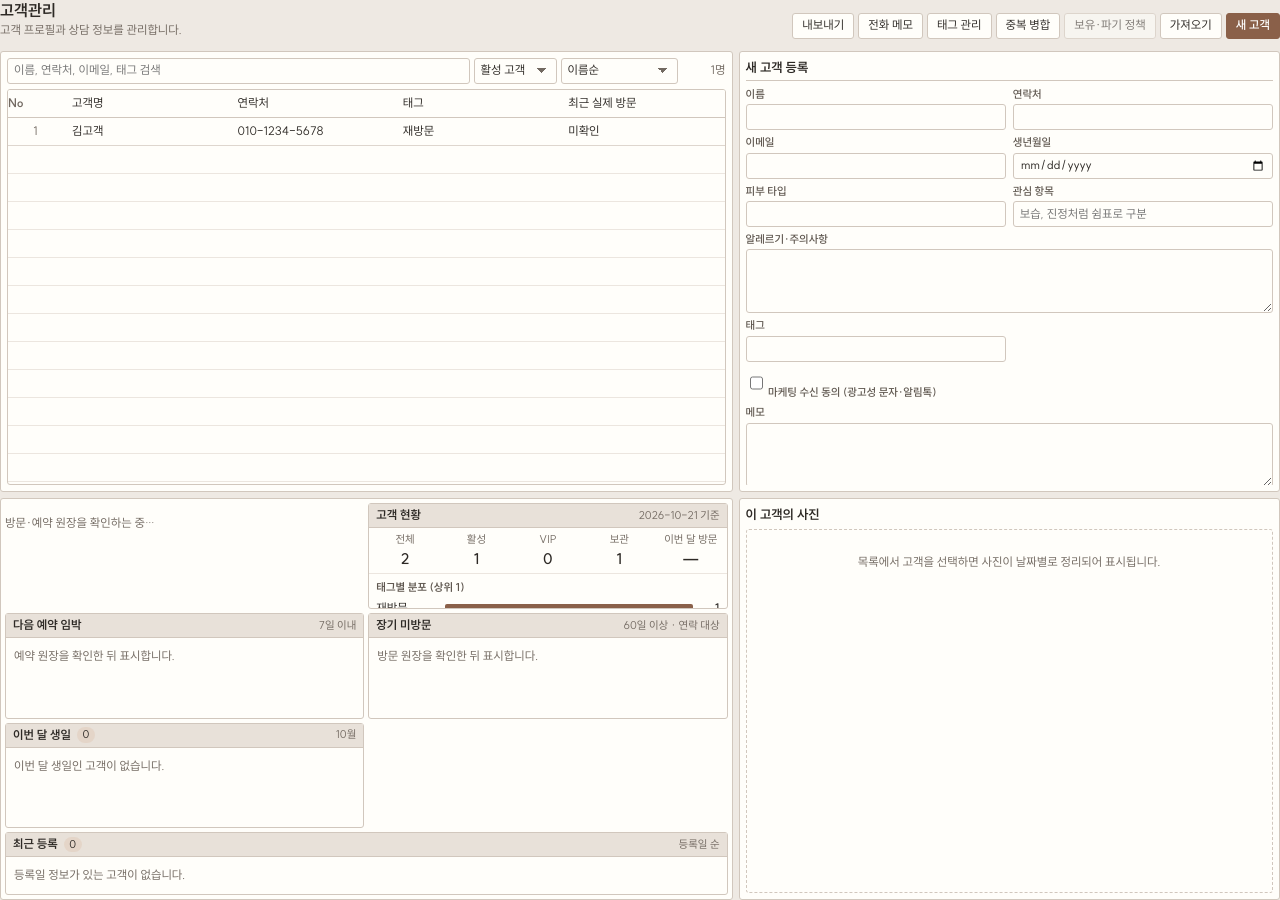
Scenario: CustomerPage import/export buttons › offers export for everyone, with current-list and all scopes, and import only to writers
Step 1. Click the button "내보내기" → (823, 26), box top-left (792, 13), bottom-right (854, 39)
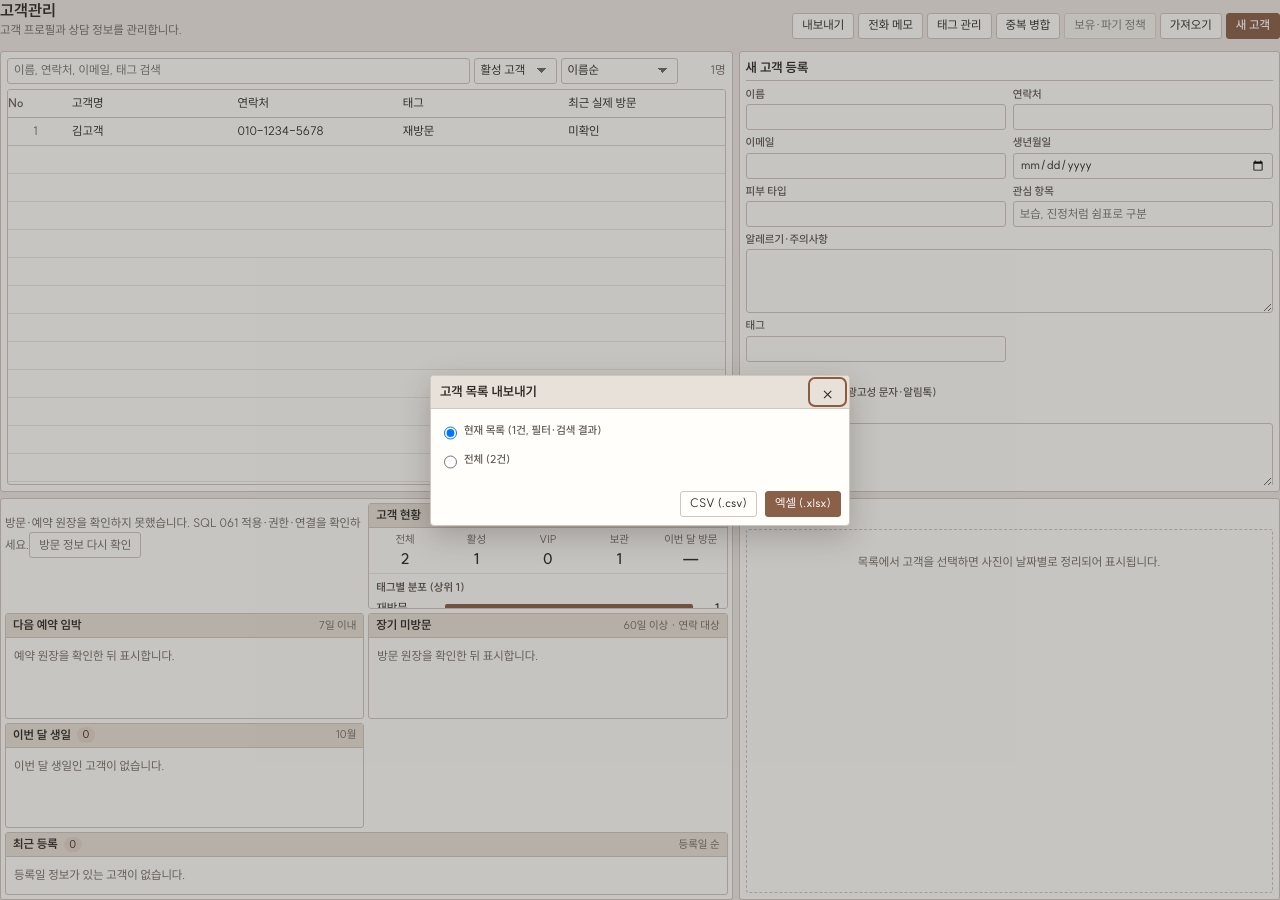
Check: the text "현재 목록 (1건, 필터·검색 결과)" is shown, box top-left (444, 420), bottom-right (602, 446)
Check: the text "전체 (2건)" is shown, box top-left (444, 448), bottom-right (510, 474)
Check: the button "엑셀 (.xlsx)" is shown, box top-left (765, 490), bottom-right (841, 516)
